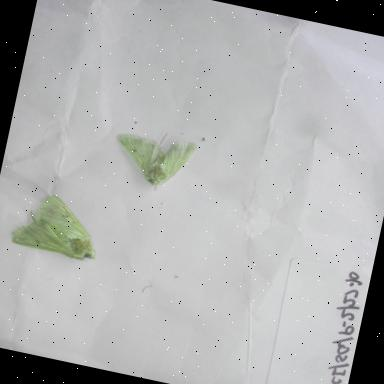abw: (2, 180, 114, 274), (100, 118, 206, 204)
